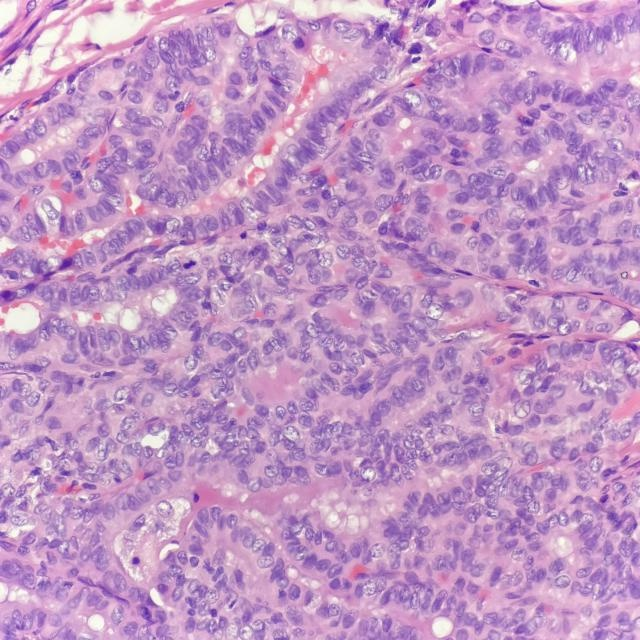TC: (103, 376, 135, 411), (507, 387, 533, 429), (416, 296, 450, 324), (179, 345, 205, 377), (327, 327, 351, 359), (338, 203, 365, 230), (103, 233, 130, 260), (238, 193, 259, 227), (283, 207, 309, 234), (404, 370, 427, 400), (236, 293, 267, 315), (313, 248, 337, 276), (348, 249, 374, 274), (161, 320, 184, 347), (59, 142, 80, 171), (297, 142, 323, 164), (422, 238, 445, 262), (261, 182, 285, 205), (114, 270, 131, 302), (368, 277, 393, 298), (174, 308, 199, 329), (124, 326, 139, 361), (74, 207, 90, 239), (351, 151, 383, 165), (105, 190, 127, 210), (332, 239, 350, 263), (311, 333, 334, 351), (466, 234, 482, 255), (168, 252, 183, 274), (148, 263, 162, 285), (182, 271, 202, 285), (90, 202, 101, 227), (269, 327, 288, 341)
